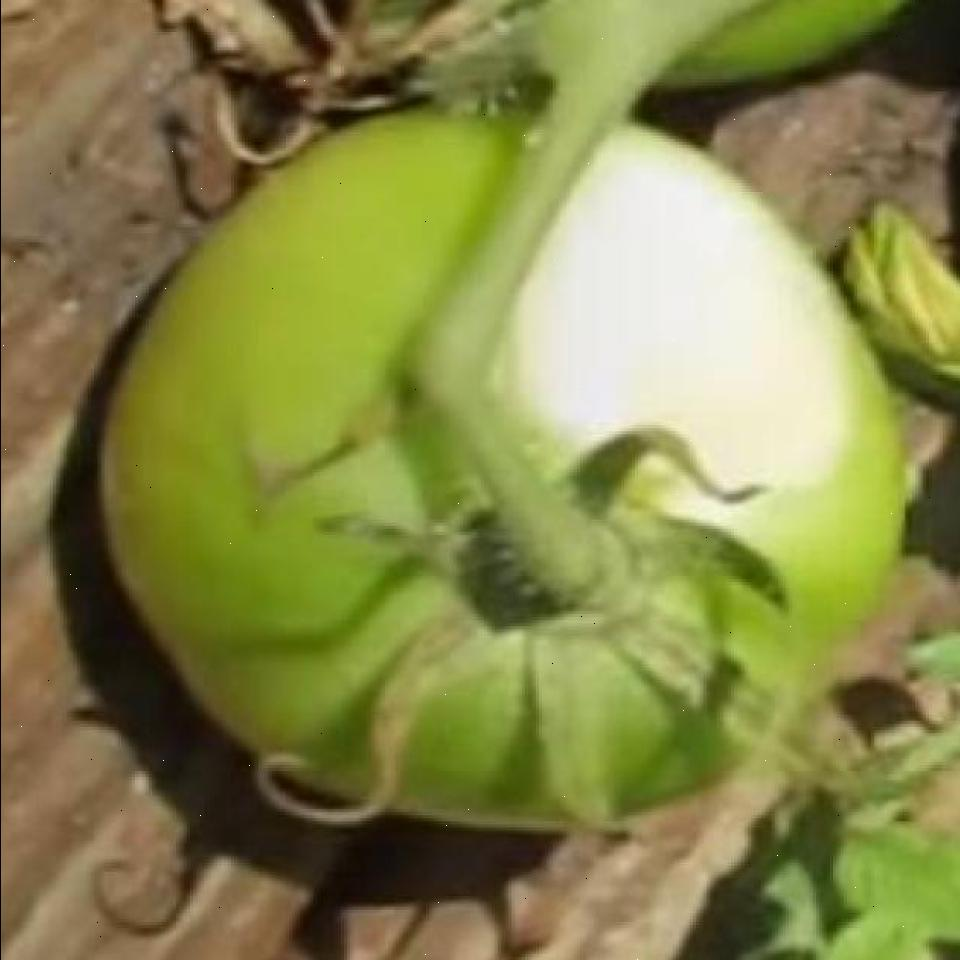Sunscald: (502, 94, 848, 504)
